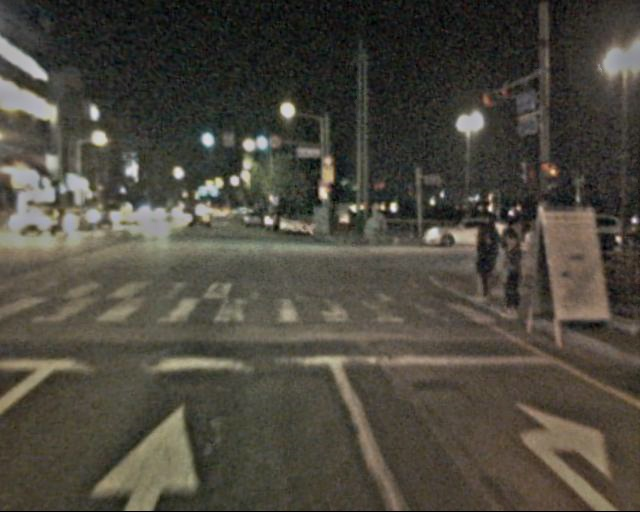person: (492, 231, 532, 323), (463, 221, 502, 307)
